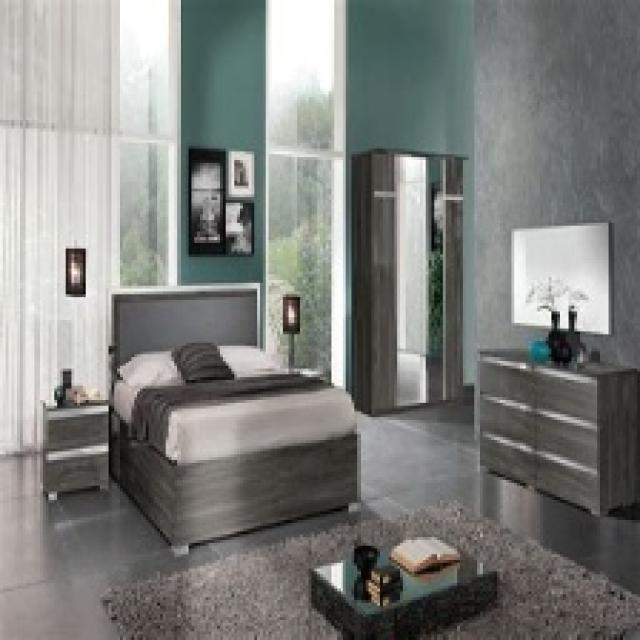Bed: (106, 283, 360, 557)
